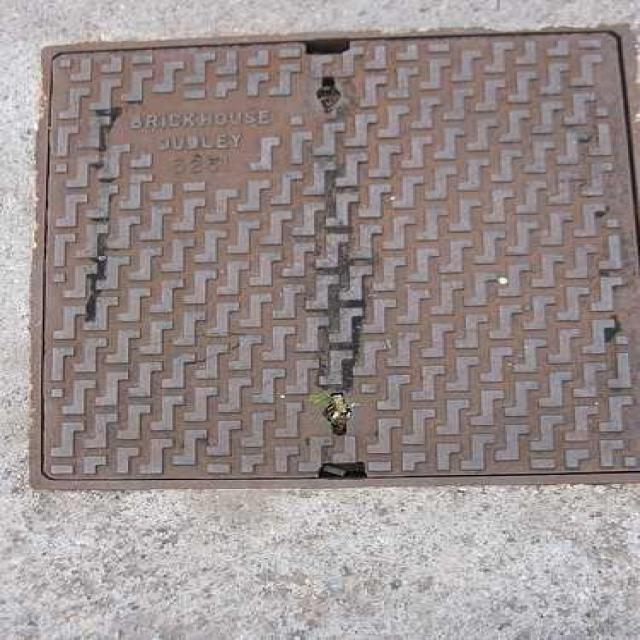manhole: (27, 27, 640, 493)
